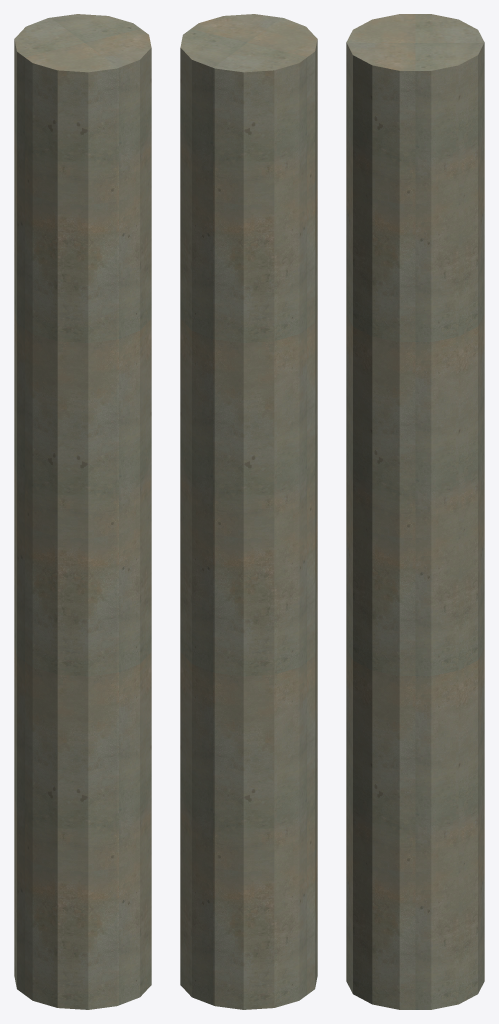
Rendered from cem_column.fbx.
3 renders of one model, left to right at view 1: azimuth 30°, elevation 25°; view 2: azimuth 150°, elevation 25°; view 3: azimuth 270°, elevation 25°, orthographic.
Parts seen in each view (by area): view 1: Object; view 2: Object; view 3: Object.
Boxes of the visible parts, left/top/right/bottom form: Object: left=14, top=14, right=151, bottom=1009; Object: left=180, top=14, right=317, bottom=1009; Object: left=346, top=14, right=484, bottom=1009.
Bounding box in the file's own units: 584 × 4500 × 600.
